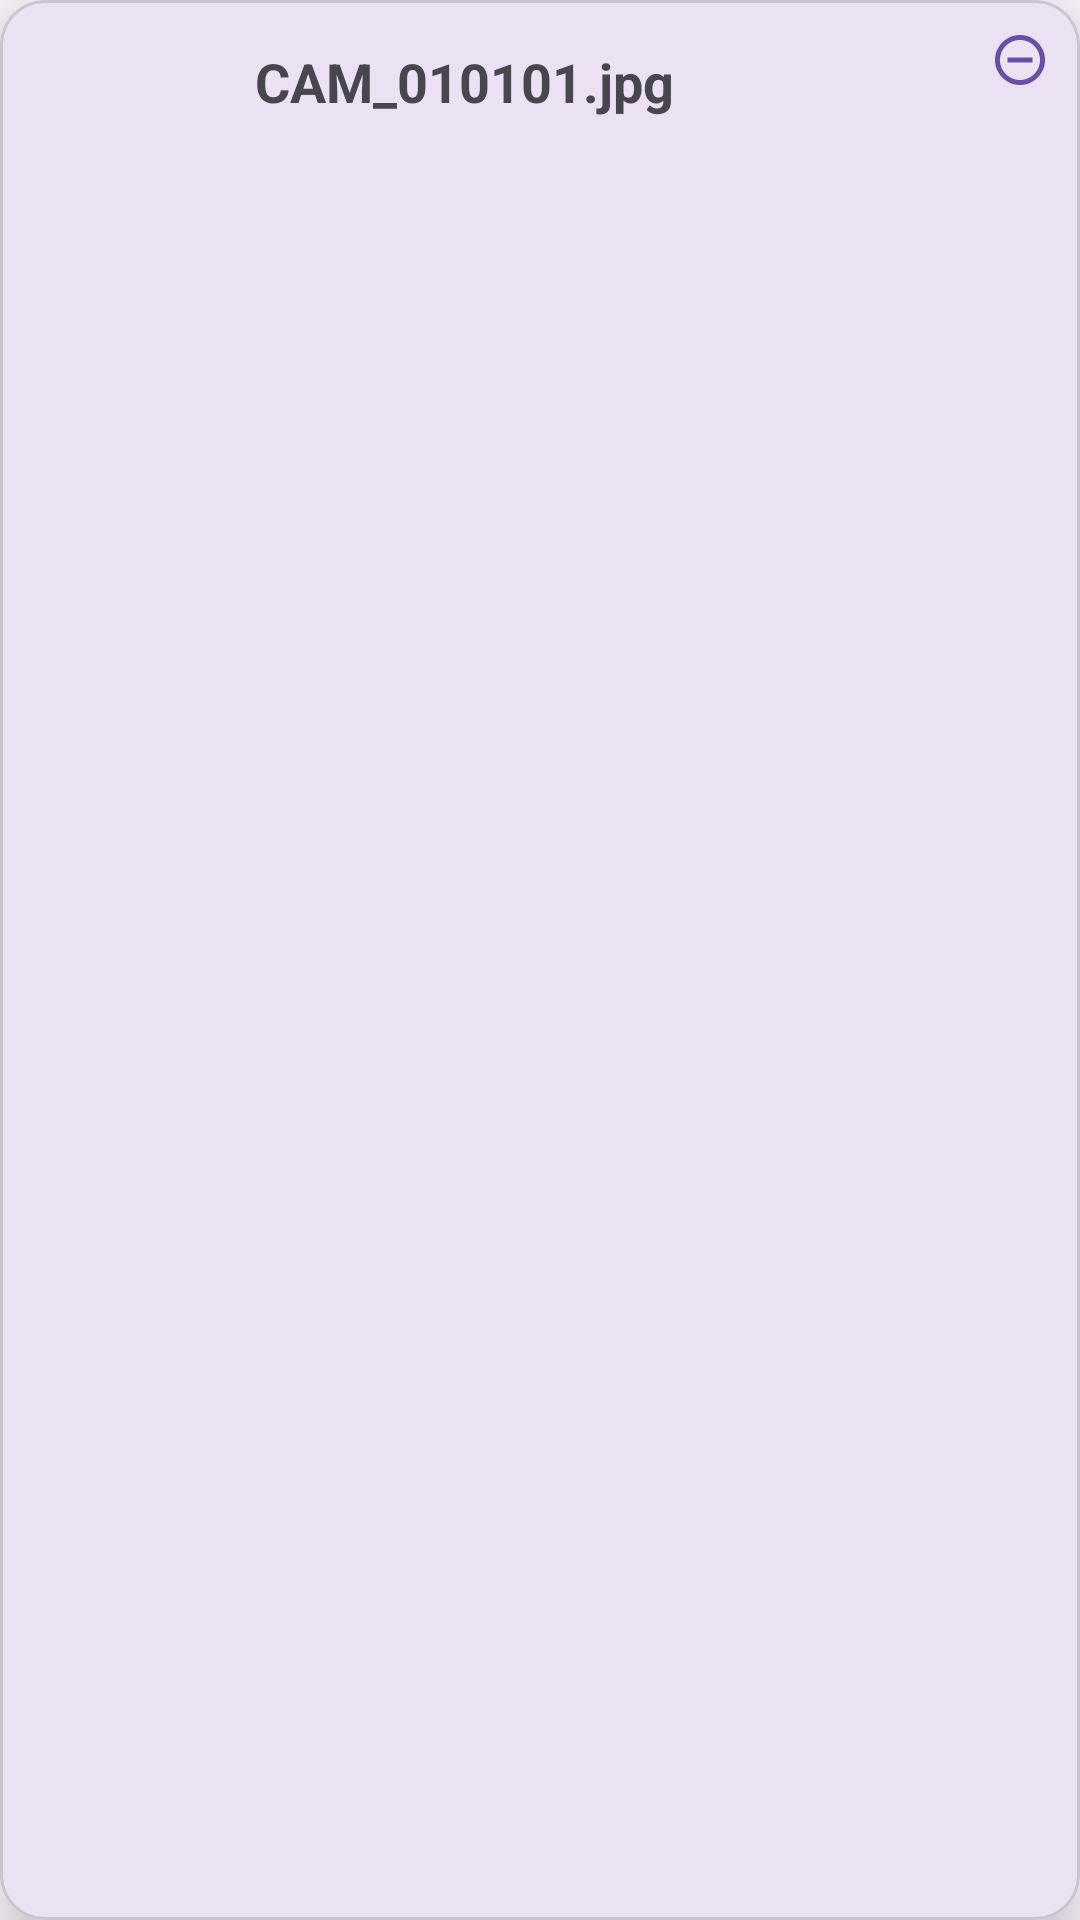

Where to tap for icons on this 1080w x 1920h app screen, as (x=x, y=y):
remove circle: (x=1020, y=60)
